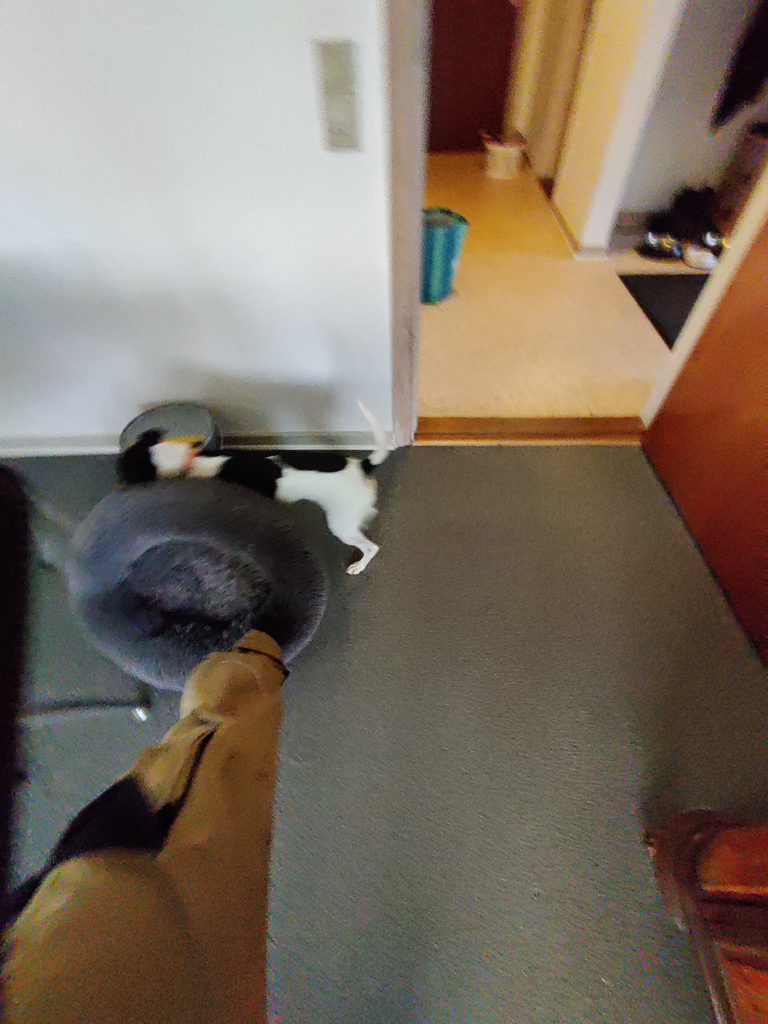Dog: (104, 395, 406, 579)
Humanoid: (0, 571, 317, 1024)
